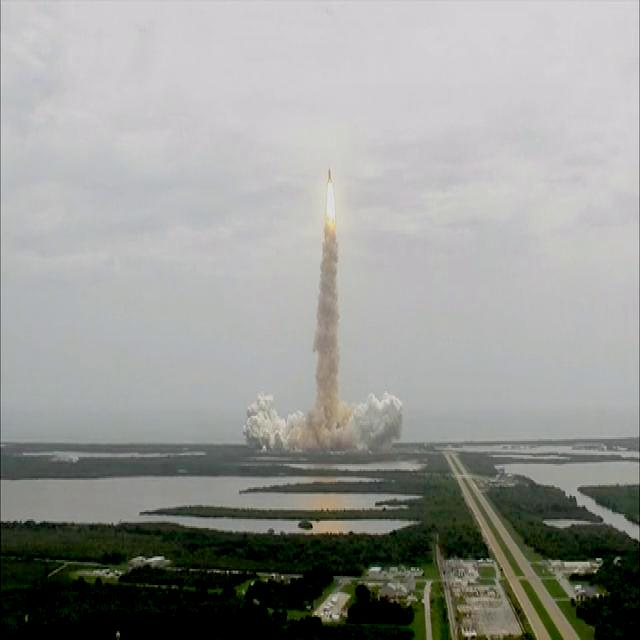fire: (326, 183, 338, 227)
smoke: (250, 394, 274, 456), (290, 414, 318, 451), (316, 414, 341, 453), (318, 368, 338, 407), (342, 409, 360, 451), (364, 402, 382, 444), (318, 326, 337, 364), (275, 419, 296, 452), (321, 280, 338, 320), (385, 394, 399, 436), (325, 228, 336, 272)
